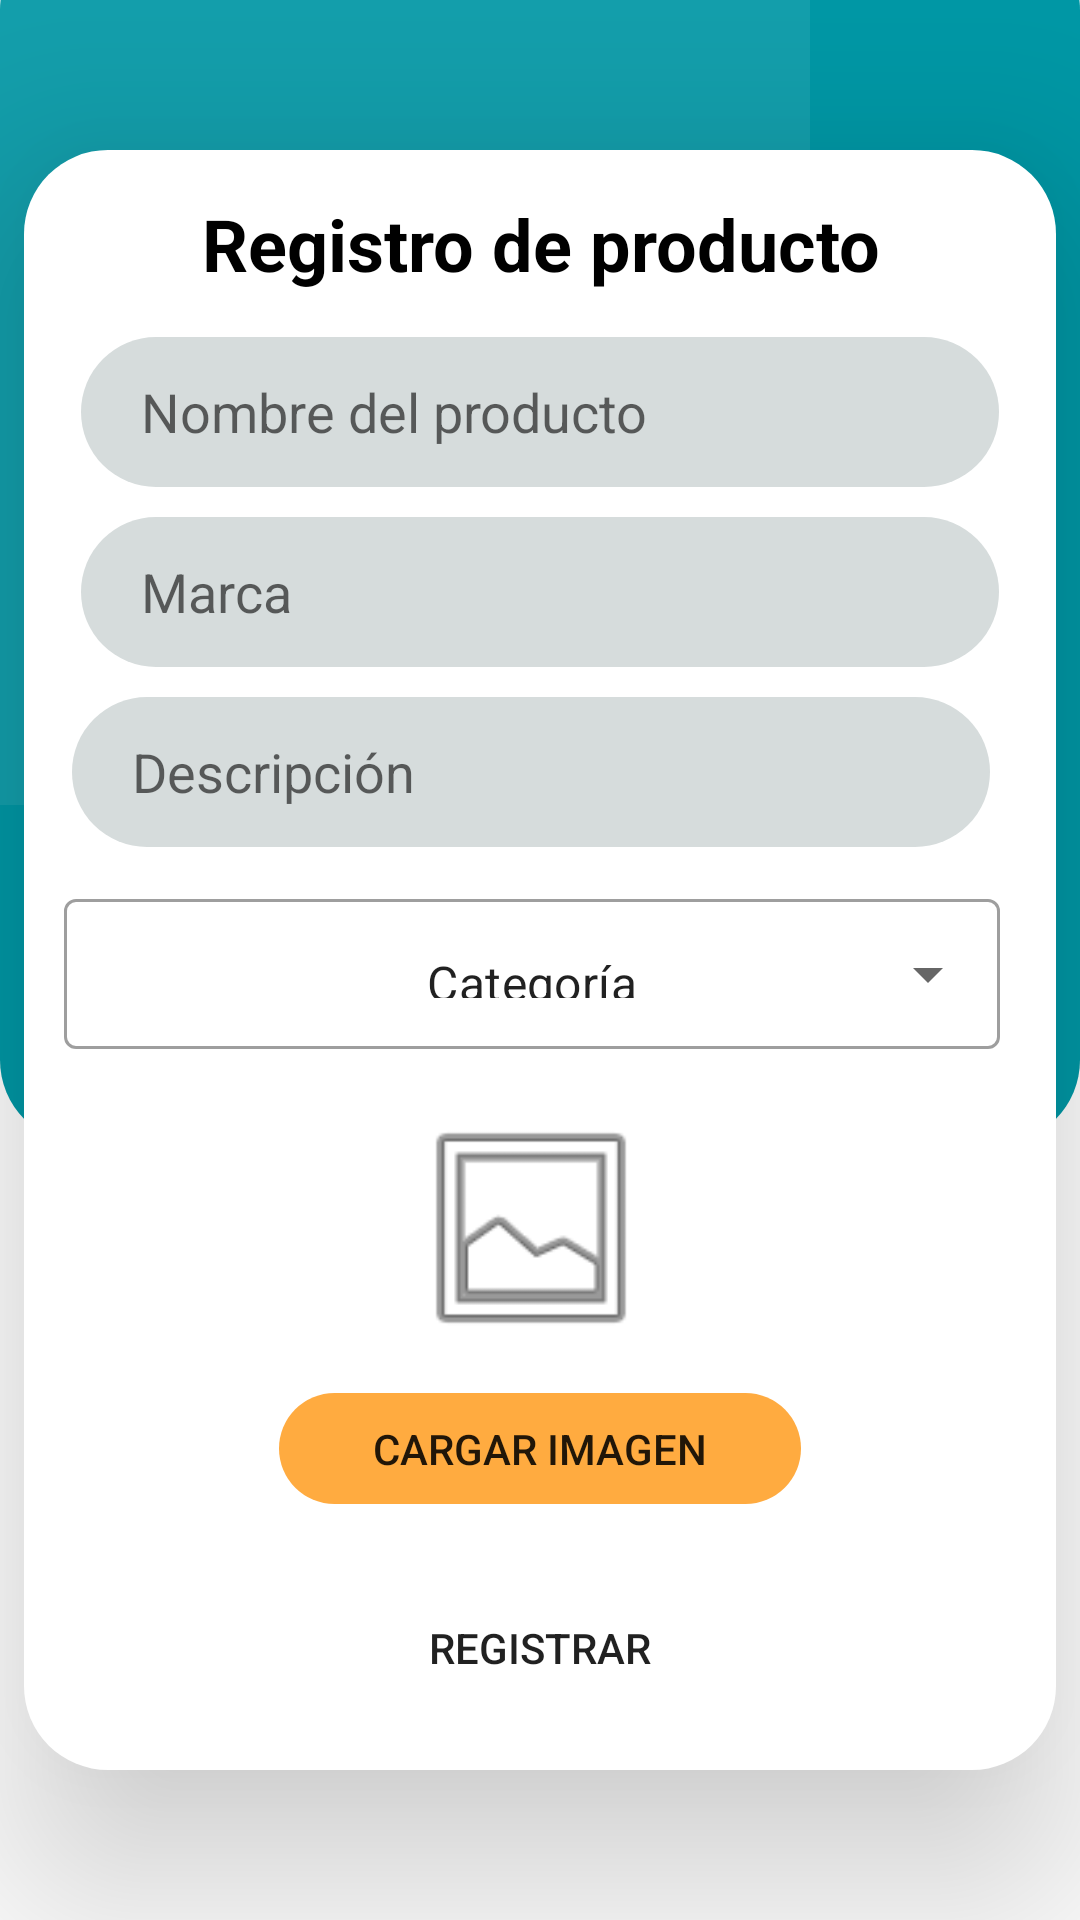

Where icons sit on this 1080x1920 app screen, as (x1, y1, x2, y2):
gallery: (436, 1133, 626, 1323)
